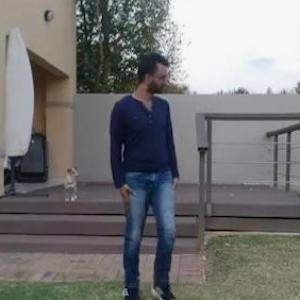follow: (108, 37, 203, 278)
